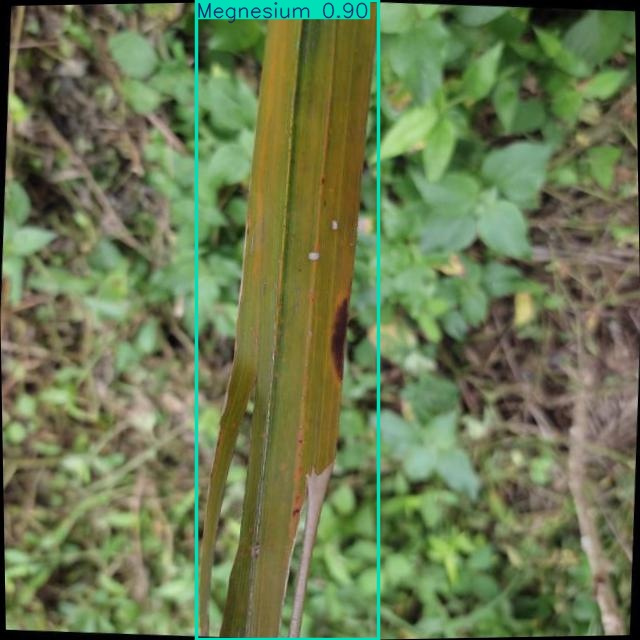Megnesium: (196, 0, 378, 640)
